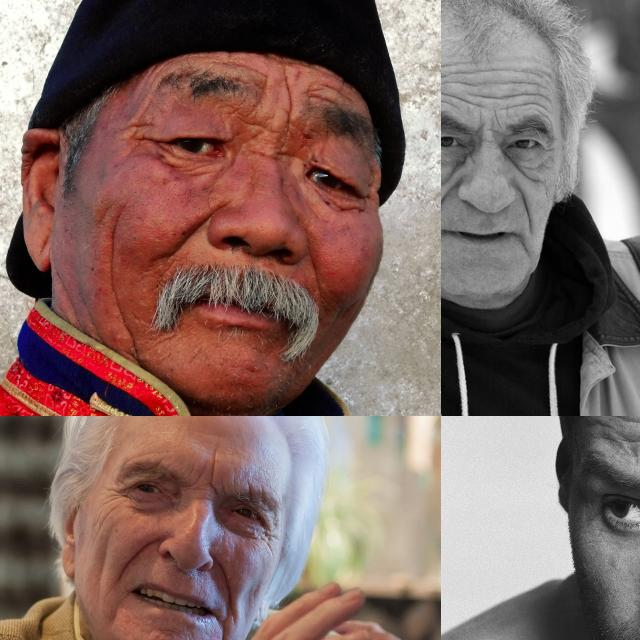bunny_line: (514, 164, 546, 186)
crows_feet: (124, 113, 162, 165), (106, 479, 130, 506), (536, 139, 560, 159), (258, 523, 276, 549)
forehead: (471, 70, 514, 110), (522, 69, 556, 115), (606, 416, 640, 460), (213, 54, 265, 80), (308, 80, 356, 108), (124, 442, 166, 463), (441, 62, 457, 107), (244, 474, 256, 494)
frown_line: (236, 110, 268, 144), (277, 85, 297, 131), (476, 120, 504, 146), (206, 451, 220, 482), (207, 479, 223, 501)
gummy_smile: (172, 205, 210, 255), (118, 530, 160, 572), (302, 244, 322, 300), (215, 559, 237, 605), (514, 187, 538, 227), (441, 177, 457, 222)
masseter: (96, 219, 130, 311), (118, 315, 146, 355)
sad_smile: (516, 232, 532, 255), (215, 618, 229, 640)
